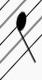B: (14, 4, 40, 66)
